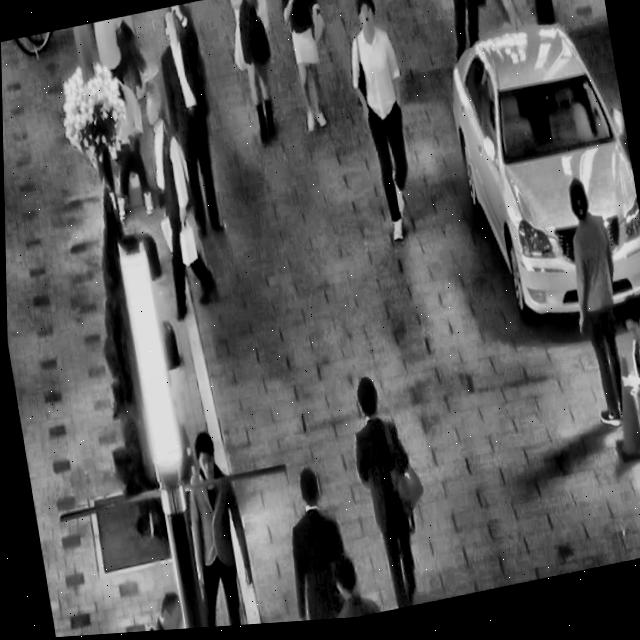light_vehicle: (427, 0, 640, 348)
